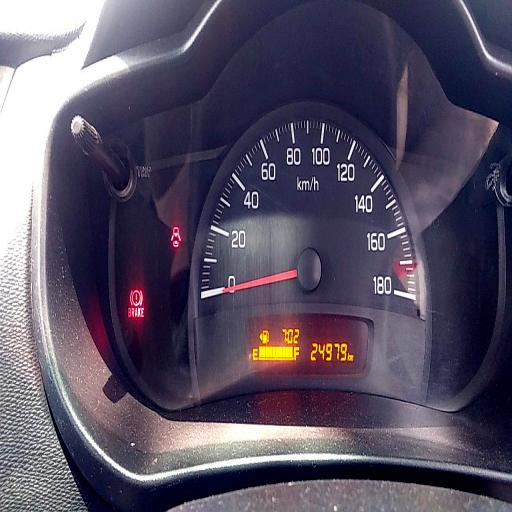brake_system_fault: (128, 288, 144, 308)
